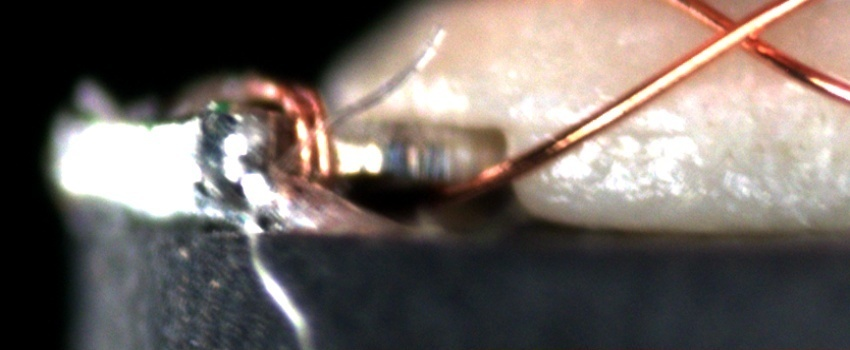CL: (695, 3, 783, 64)
DL: (522, 116, 697, 153)
TE: (243, 69, 347, 196)
